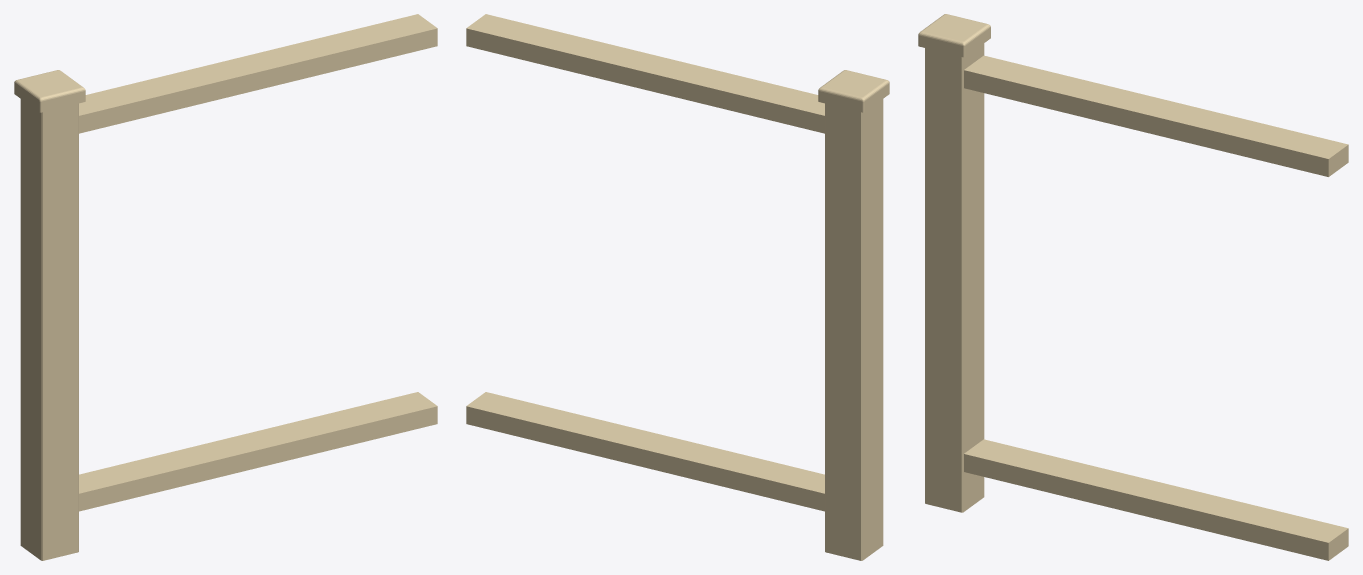
The model's file is mod_railing_dpk.glb.
The picture shows the model from 3 angles, left to right: view 1: azimuth 30°, elevation 25°; view 2: azimuth 150°, elevation 25°; view 3: azimuth 330°, elevation 25°; orthographic projection.
Visible parts, largest first — view 1: rails, post, cap; view 2: rails, post, cap; view 3: rails, post, cap.
Boxes of the visible parts, x1,y1,x2,y2 form: rails: (79,14,437,511); post: (20,99,78,560); cap: (14,70,85,112); rails: (466,14,824,511); post: (825,99,883,560); cap: (818,70,889,112); rails: (964,55,1348,560); post: (925,43,984,512); cap: (918,14,990,57).
Size of the model in its own units: 1.06 by 1.18 by 0.122.
